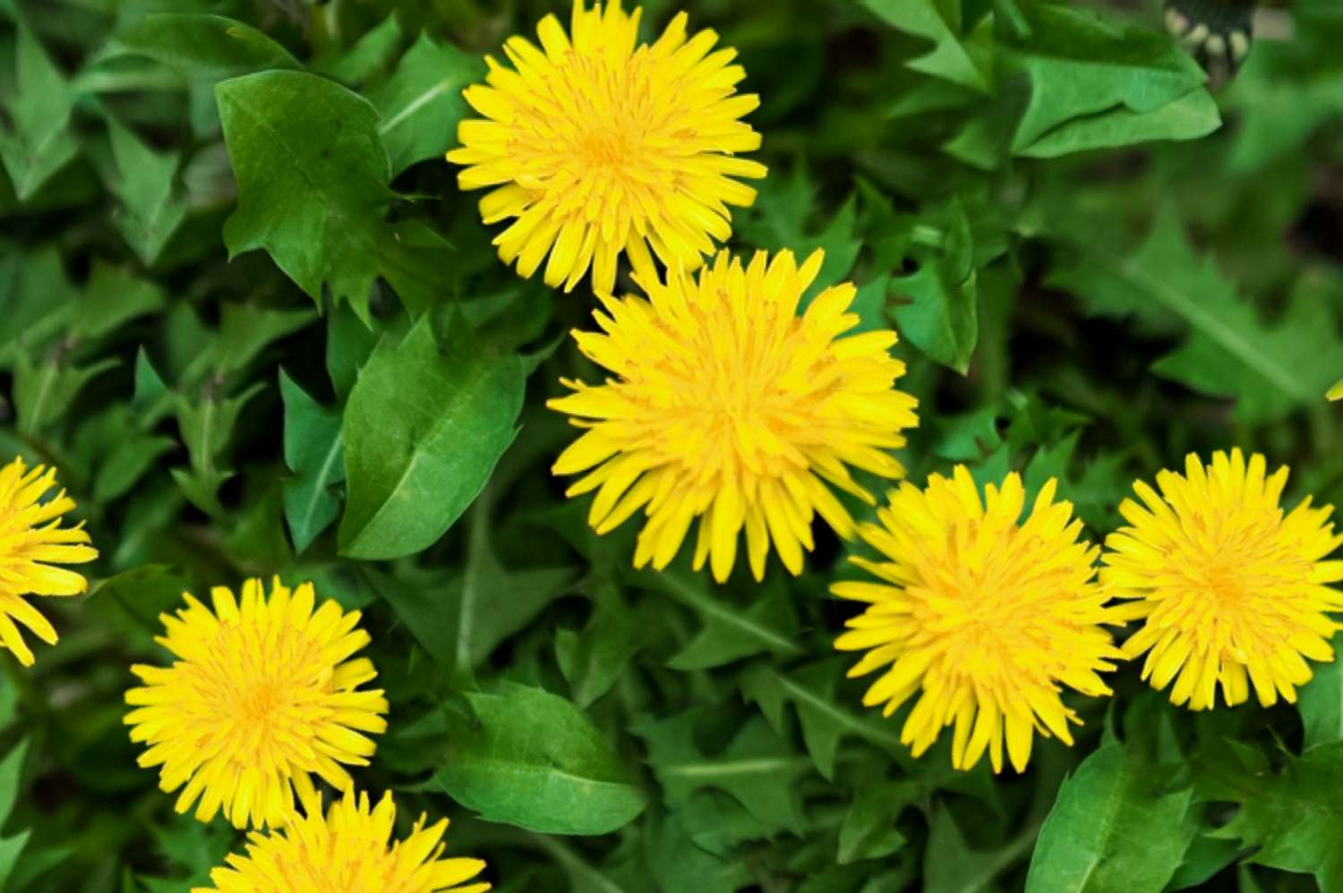begonvil: (580, 221, 922, 597), (834, 442, 1123, 791), (458, 0, 767, 275), (1096, 421, 1343, 748), (135, 570, 390, 824), (4, 409, 108, 714), (183, 800, 519, 893)
